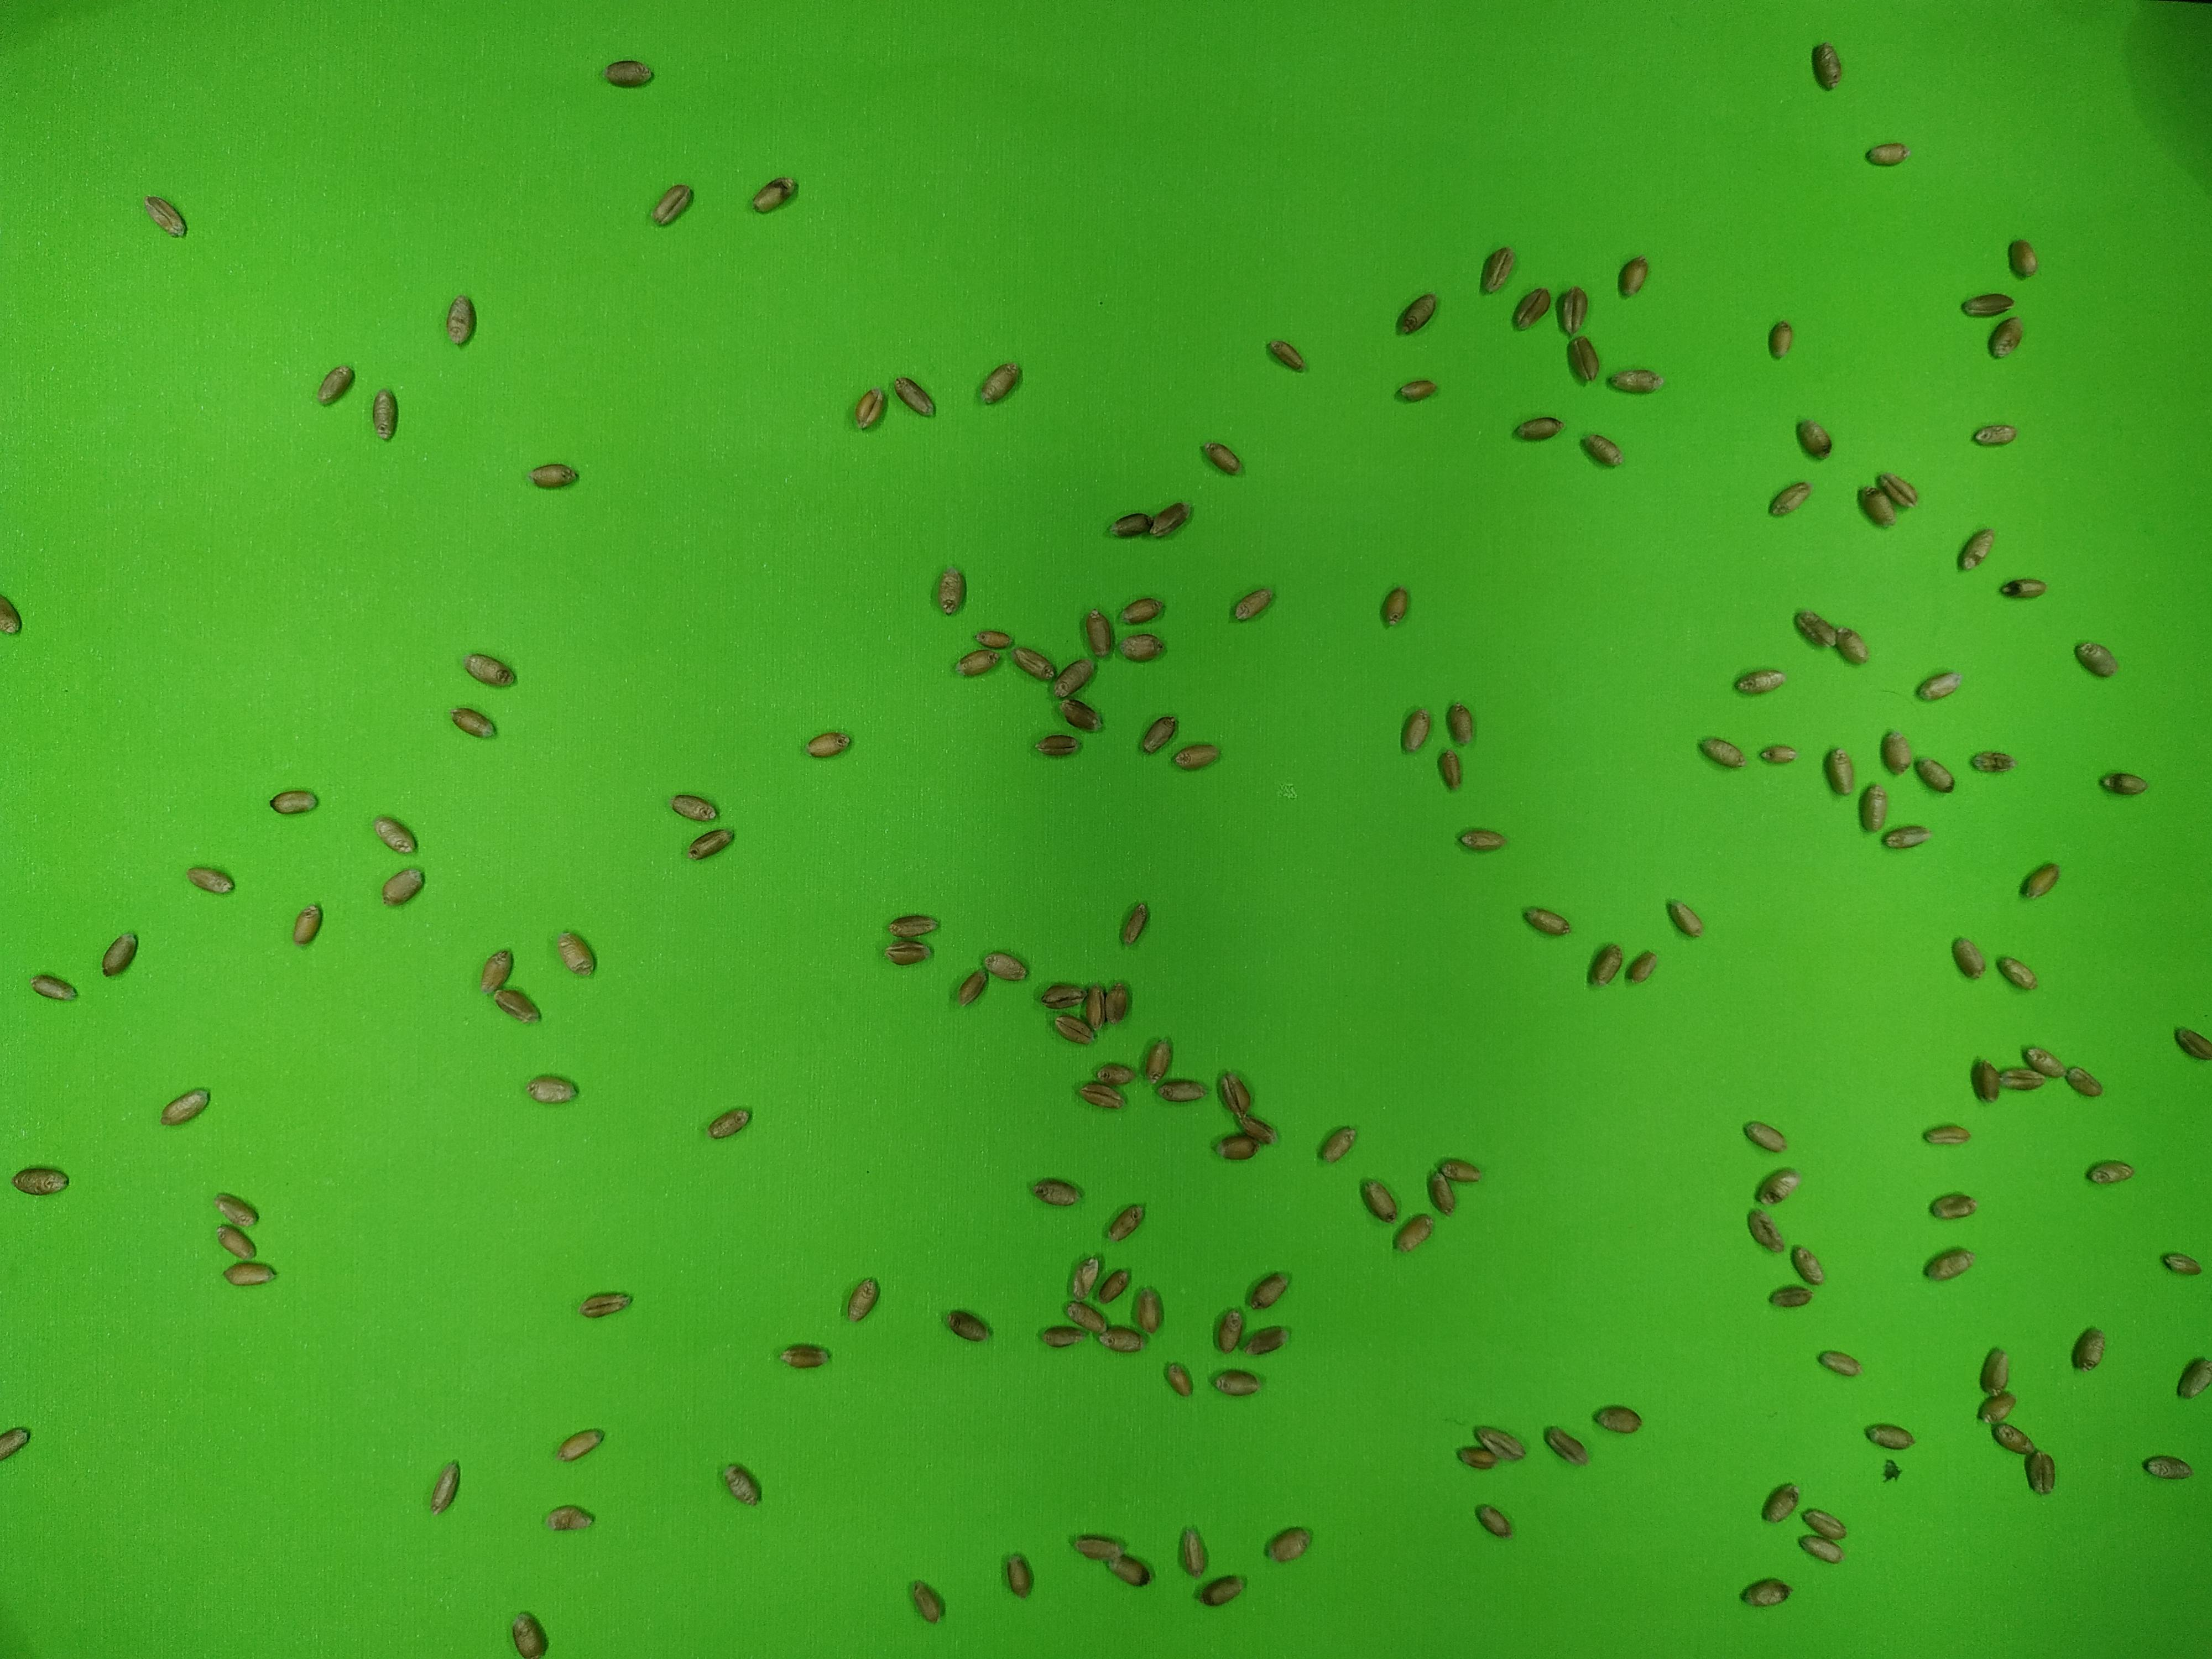bueno: (460, 650, 524, 692), (1228, 1107, 1282, 1150), (554, 925, 596, 979), (1468, 1422, 1524, 1460), (1069, 1532, 1134, 1565), (368, 814, 416, 857), (2024, 1443, 2060, 1500), (1000, 1549, 1038, 1603), (1853, 782, 1892, 835), (1474, 247, 1519, 291), (1561, 336, 1604, 382), (977, 359, 1022, 403), (1130, 1283, 1165, 1338), (444, 293, 479, 349), (1554, 284, 1592, 335), (509, 1608, 547, 1659), (1796, 1530, 1846, 1568), (1139, 1035, 1176, 1087), (1521, 903, 1573, 939), (1585, 945, 1627, 990), (2074, 638, 2120, 680), (721, 1462, 763, 1507), (1376, 582, 1416, 629), (953, 962, 993, 1009), (1446, 699, 1480, 753), (1103, 1553, 1157, 1588), (1115, 627, 1169, 662), (1214, 1303, 1249, 1358), (942, 1307, 991, 1345), (1080, 603, 1111, 662), (369, 385, 402, 441), (157, 1089, 209, 1124), (143, 195, 186, 237), (894, 375, 935, 418), (575, 1286, 627, 1321), (1137, 714, 1181, 756), (99, 932, 141, 976), (2020, 859, 2064, 901), (651, 181, 691, 227), (1613, 254, 1653, 300), (1392, 1213, 1437, 1253), (1010, 645, 1057, 683), (1214, 1364, 1261, 1403), (1217, 1072, 1256, 1119), (378, 868, 425, 906), (265, 784, 319, 817), (1390, 375, 1444, 408), (446, 704, 500, 737), (1146, 498, 1195, 535), (526, 1072, 575, 1108), (686, 826, 735, 863), (1049, 1011, 1097, 1047), (845, 1274, 881, 1323), (1789, 612, 1839, 647), (934, 566, 968, 617), (1242, 1323, 1292, 1358), (428, 1460, 460, 1516), (1177, 1525, 1209, 1581), (1956, 528, 1998, 570), (2059, 1063, 2102, 1103), (1514, 286, 1554, 329), (1214, 1127, 1259, 1166), (1064, 1297, 1109, 1335), (1984, 321, 2029, 359), (2019, 1042, 2066, 1079), (1054, 694, 1101, 730), (1794, 415, 1831, 462), (1397, 706, 1433, 753), (907, 1579, 944, 1626), (1108, 507, 1155, 544), (491, 985, 538, 1021), (9, 1166, 66, 1195), (1764, 317, 1799, 366), (1433, 746, 1468, 795), (1815, 1345, 1864, 1380), (1399, 293, 1439, 335), (1663, 897, 1703, 939), (1822, 746, 1855, 796), (1698, 735, 1749, 769), (225, 1258, 275, 1291), (1761, 1481, 1799, 1525), (1200, 1570, 1245, 1607), (1914, 756, 1959, 793), (1151, 1077, 1211, 1105), (1167, 742, 1223, 772), (1871, 472, 1923, 504), (1808, 38, 1839, 91), (1968, 1058, 2003, 1105), (1099, 1323, 1146, 1358), (24, 971, 77, 1002), (1451, 1439, 1500, 1473), (1076, 1079, 1125, 1112), (1912, 667, 1961, 701), (1031, 1175, 1080, 1208), (1742, 1121, 1791, 1154), (801, 728, 850, 762), (667, 791, 716, 824), (1057, 657, 1097, 697), (1857, 483, 1895, 525), (1580, 432, 1622, 471), (1472, 1502, 1514, 1541), (216, 1222, 254, 1263), (317, 362, 355, 404), (1966, 748, 2020, 777), (1454, 824, 1508, 854), (1200, 437, 1244, 474), (1096, 1263, 1132, 1307), (1263, 338, 1306, 375), (2003, 237, 2040, 281), (885, 910, 935, 941), (1879, 727, 1911, 777), (554, 1429, 604, 1460), (1116, 901, 1151, 946), (2158, 1246, 2203, 1281), (1266, 1527, 1312, 1561), (1994, 955, 2040, 990), (1991, 1422, 2036, 1457), (212, 1192, 258, 1227), (529, 457, 575, 491), (2097, 767, 2144, 800), (1737, 666, 1784, 699), (1949, 934, 1982, 981), (1799, 1507, 1846, 1541), (981, 950, 1028, 983), (1860, 1422, 1916, 1450), (601, 59, 653, 89), (1963, 291, 2015, 321), (1097, 981, 1136, 1021), (1979, 1389, 2017, 1429), (1317, 1124, 1357, 1162), (1831, 627, 1871, 666), (2174, 1359, 2210, 1401), (2141, 1450, 2189, 1481), (1742, 1577, 1791, 1608), (779, 1342, 827, 1373), (186, 864, 235, 896), (1251, 1270, 1287, 1312), (752, 178, 794, 214), (1362, 1180, 1397, 1223), (1120, 591, 1163, 626), (956, 645, 1000, 680), (1543, 1429, 1588, 1462), (1162, 1358, 1195, 1403), (1592, 1405, 1642, 1434), (543, 1502, 594, 1532), (1925, 1249, 1975, 1279), (289, 903, 320, 950), (1625, 948, 1662, 988), (1921, 1121, 1973, 1148), (2170, 1028, 2212, 1063), (2071, 1328, 2106, 1370), (1514, 415, 1562, 444), (1768, 483, 1811, 516), (479, 946, 512, 990), (2001, 573, 2047, 605), (853, 387, 885, 432), (1747, 1209, 1778, 1255), (1230, 589, 1275, 620), (2083, 1159, 2134, 1187), (1970, 422, 2020, 450), (1108, 1202, 1144, 1241), (1606, 369, 1663, 394), (1789, 1244, 1824, 1284), (1076, 976, 1106, 1023), (2000, 1063, 2047, 1093), (1757, 1168, 1799, 1201), (1878, 824, 1933, 849), (1862, 139, 1911, 167), (1090, 1060, 1136, 1089), (885, 938, 930, 967), (1040, 978, 1076, 1014), (709, 1107, 747, 1141), (1031, 734, 1082, 760), (1928, 1194, 1975, 1222), (1766, 1283, 1813, 1310), (972, 624, 1015, 653), (1980, 1352, 2010, 1396), (1426, 1173, 1456, 1215), (1038, 1323, 1082, 1351), (1071, 1256, 1099, 1298), (0, 1425, 33, 1460), (1435, 1157, 1479, 1183), (1756, 741, 1794, 769)
impureza: (1878, 1457, 1905, 1490)
